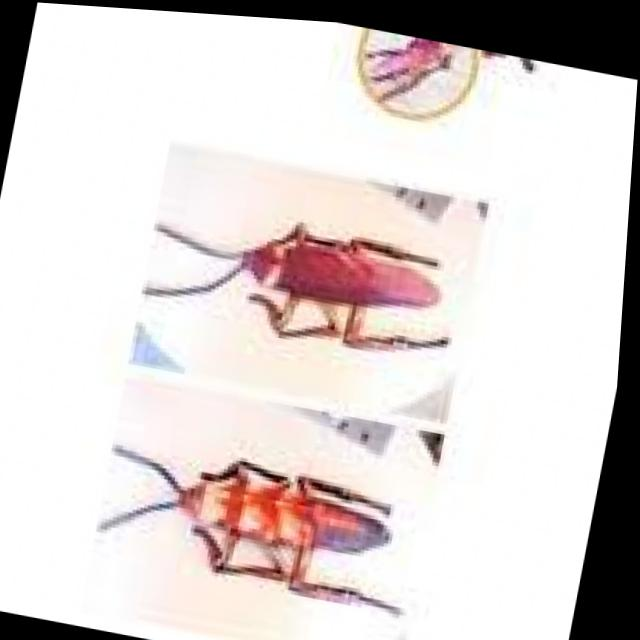Cockroach: (134, 160, 488, 371)
